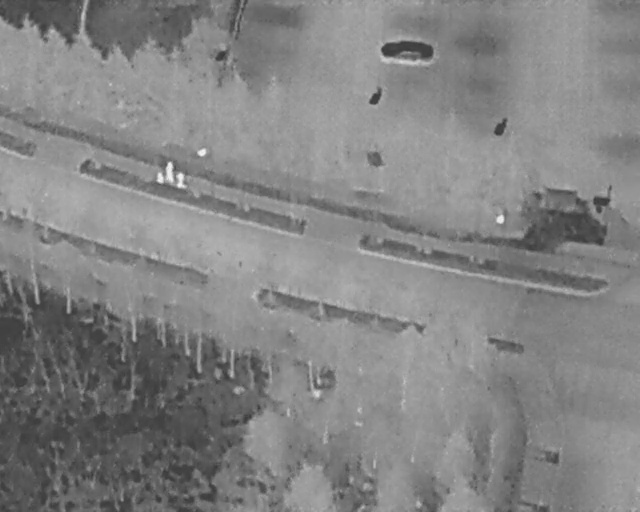Car: (517, 181, 609, 247), (379, 37, 434, 62)
Person: (164, 160, 174, 184), (176, 171, 187, 190), (155, 173, 166, 190)
